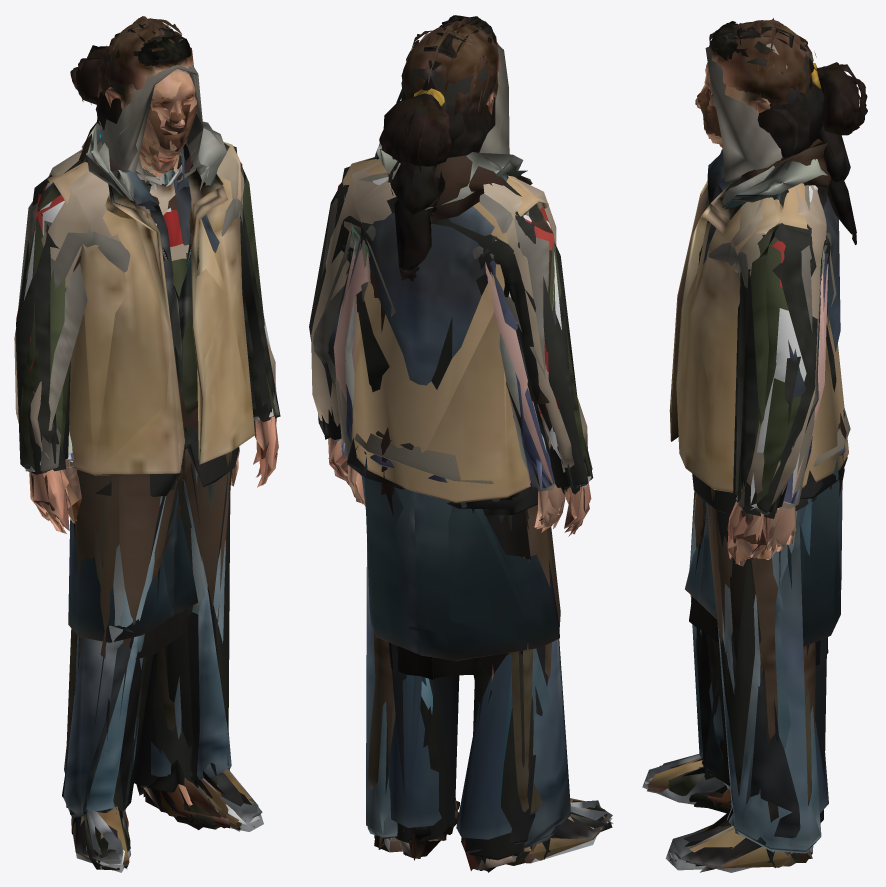
Rendered from crowd_cast.glb.
The picture shows the model from 3 angles, left to right: view 1: azimuth 30°, elevation 25°; view 2: azimuth 150°, elevation 25°; view 3: azimuth 270°, elevation 25°; orthographic projection. The views are drawn at different scales.
Parts seen in each view (by area): view 1: R_Male_Adult_05_m008, R_Male_Adult_05_m008~coarse, R_Male_Adult_04_m017, R_Male_Adult_18_m008, R_Business_Male_03, R_Male_Adult_12, R_Male_Adult_11_m017~coarse, R_Male_Adult_02_m017, R_Male_Adult_06, R_Business_Male_03~coarse, R_Male_Adult_12~coarse, R_Business_Male_06_m017 (+20 smaller); view 2: R_Female_Adult_02_f013, R_Male_Adult_12, R_Male_Adult_05_m008, R_Female_Adult_13_f016, R_Male_Adult_04_m017, R_Male_Adult_02_m017, R_Male_Adult_05_m008~coarse, R_Female_Adult_02_f013~coarse, R_Male_Adult_18_m008, R_Female_Adult_05_f011, R_Male_Adult_06, R_Female_Adult_15_f011_brown (+17 smaller); view 3: R_Male_Adult_05_m008, R_Male_Adult_04_m017, R_Male_Adult_02_m017, R_Male_Adult_06, R_Female_Adult_02_f013, R_Male_Adult_20_m008, R_Male_Adult_18_m008, R_Male_Adult_12~coarse, R_Male_Adult_05_m008~coarse, R_Male_Adult_12, R_Business_Male_03~coarse, R_Male_Adult_11_m017 (+16 smaller).
Boxes of the visible parts, <box> form: R_Male_Adult_05_m008: <box>20,30,275,866</box>; R_Male_Adult_05_m008~coarse: <box>21,49,264,658</box>; R_Male_Adult_04_m017: <box>16,90,280,812</box>; R_Male_Adult_18_m008: <box>18,24,279,862</box>; R_Business_Male_03: <box>15,23,277,867</box>; R_Male_Adult_12: <box>24,97,277,868</box>; R_Male_Adult_11_m017~coarse: <box>86,106,231,827</box>; R_Male_Adult_02_m017: <box>14,30,276,866</box>; R_Male_Adult_06: <box>16,16,277,872</box>; R_Business_Male_03~coarse: <box>44,56,271,870</box>; R_Male_Adult_12~coarse: <box>50,102,260,869</box>; R_Business_Male_06_m017: <box>23,55,276,870</box>; R_Female_Adult_02_f013: <box>342,87,559,833</box>; R_Male_Adult_12: <box>321,56,612,851</box>; R_Male_Adult_05_m008: <box>329,16,610,860</box>; R_Female_Adult_13_f016: <box>349,114,558,870</box>; R_Male_Adult_04_m017: <box>309,84,593,850</box>; R_Male_Adult_02_m017: <box>311,28,605,863</box>; R_Male_Adult_05_m008~coarse: <box>343,19,569,640</box>; R_Female_Adult_02_f013~coarse: <box>394,94,557,660</box>; R_Male_Adult_18_m008: <box>313,33,608,863</box>; R_Female_Adult_05_f011: <box>333,88,562,809</box>; R_Male_Adult_06: <box>329,15,600,862</box>; R_Female_Adult_15_f011_brown: <box>341,236,554,858</box>; R_Male_Adult_05_m008: <box>648,21,848,868</box>; R_Male_Adult_04_m017: <box>698,57,836,869</box>; R_Male_Adult_02_m017: <box>648,26,849,866</box>; R_Male_Adult_06: <box>642,18,817,870</box>; R_Female_Adult_02_f013: <box>685,89,856,813</box>; R_Male_Adult_20_m008: <box>646,23,831,872</box>; R_Male_Adult_18_m008: <box>653,43,818,862</box>; R_Male_Adult_12~coarse: <box>675,89,820,864</box>; R_Male_Adult_05_m008~coarse: <box>676,44,806,674</box>; R_Male_Adult_12: <box>644,44,840,868</box>; R_Business_Male_03~coarse: <box>669,190,785,860</box>; R_Male_Adult_11_m017: <box>689,103,821,862</box>.
Size of the model in its own units: 0.6213 by 1.83 by 0.4654.
Materials: 20 (20 with a texture image).
